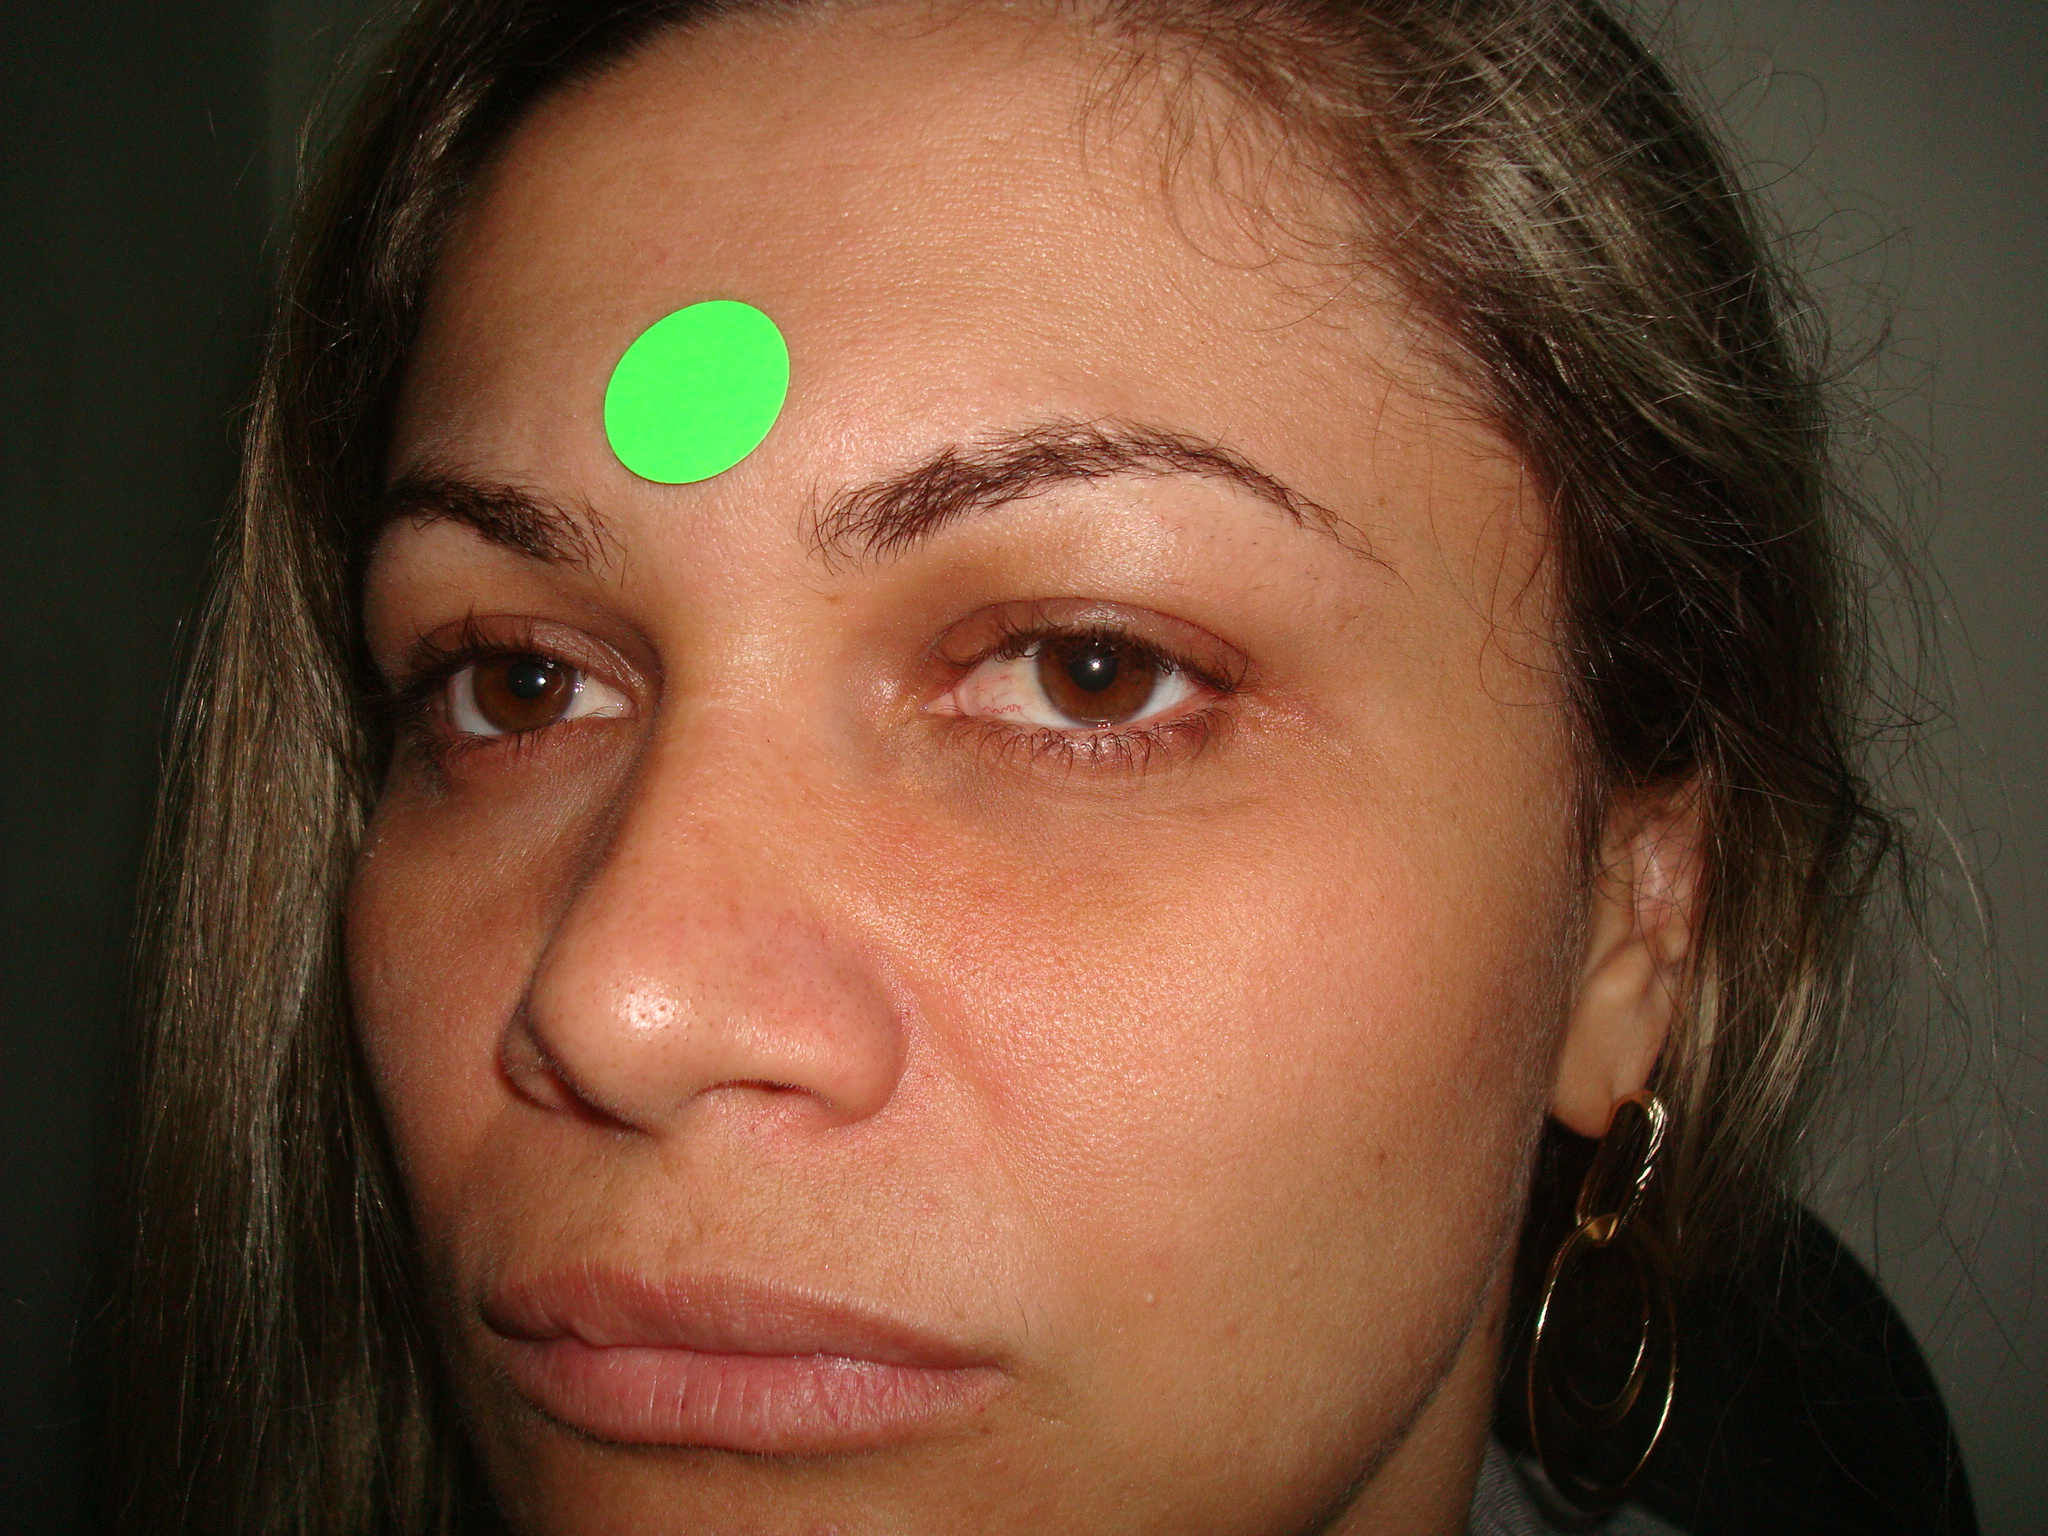flash: (1089, 658, 1105, 676), (535, 673, 550, 692)
limbo: (1035, 615, 1151, 724), (474, 634, 576, 729)
